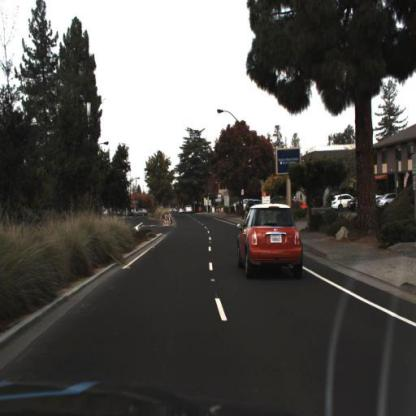car: (239, 204, 304, 279), (331, 194, 354, 211), (378, 194, 397, 208), (133, 207, 149, 219), (186, 205, 194, 215)
